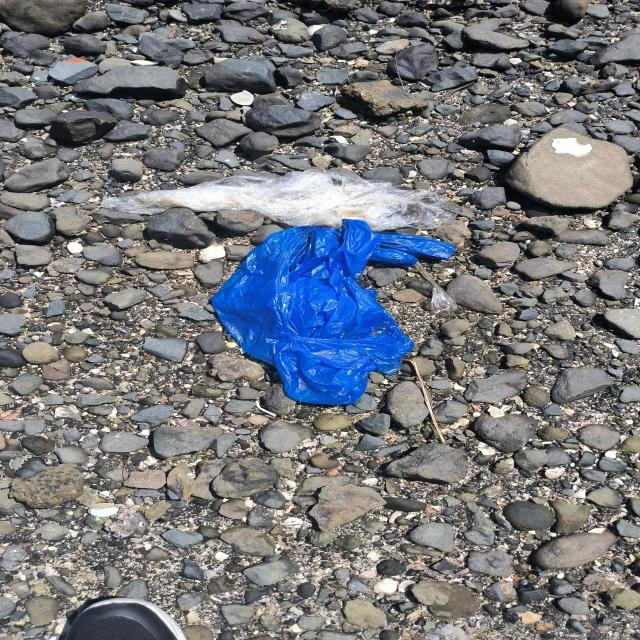plastic_waste: (211, 220, 481, 406)
